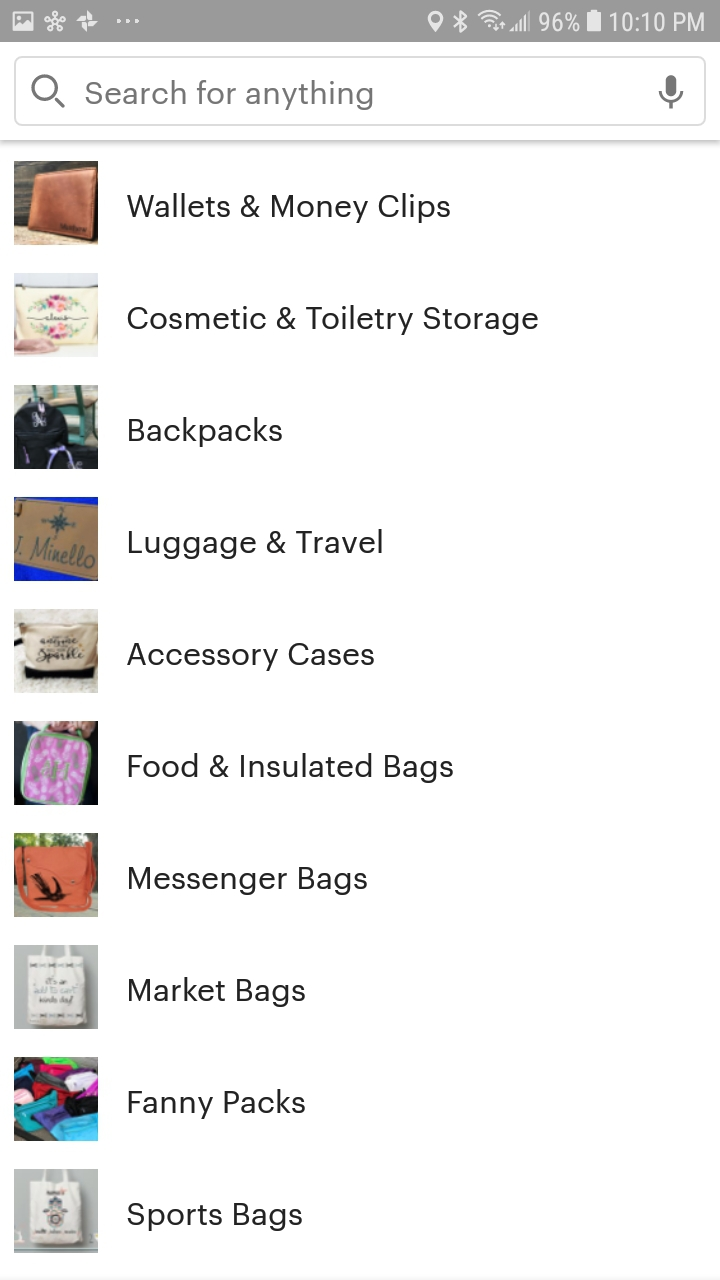EditText: (15, 57, 706, 127)
Icon: (32, 75, 66, 109), (658, 76, 684, 110)
Image: (15, 161, 100, 246), (14, 273, 99, 358), (14, 497, 99, 582), (14, 609, 99, 694), (15, 721, 100, 806), (14, 833, 99, 918), (14, 1056, 99, 1141), (15, 385, 99, 470), (15, 1168, 99, 1253), (15, 945, 99, 1029)
Text: (128, 305, 539, 337), (128, 752, 454, 784), (127, 193, 451, 225), (86, 80, 374, 111), (129, 528, 383, 560), (127, 642, 375, 672), (128, 866, 368, 896), (128, 1088, 306, 1120), (129, 976, 306, 1008), (127, 1202, 303, 1232), (129, 416, 283, 448)
UpperTaskBar: (1, 1, 720, 43)
